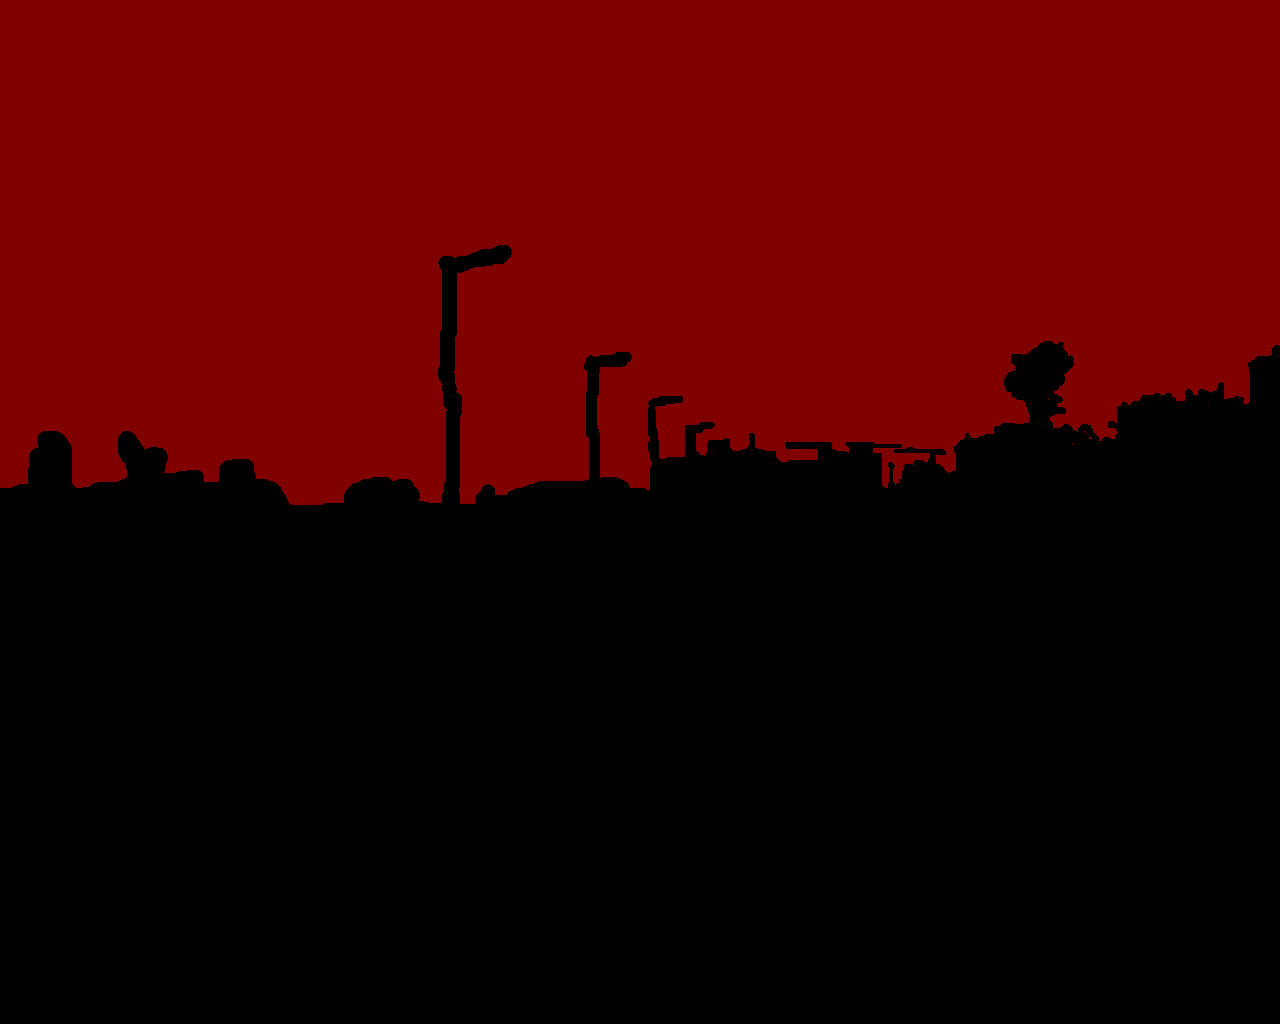Sky: (1, 1, 1279, 505)
